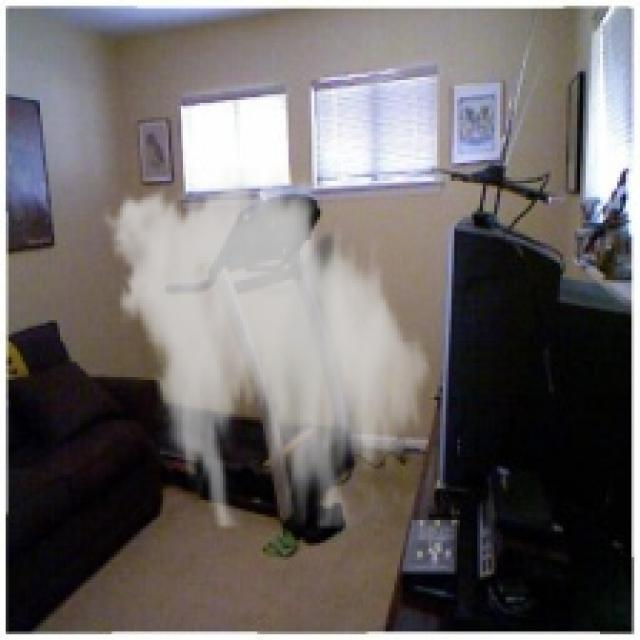Smoke: (94, 162, 440, 528)
